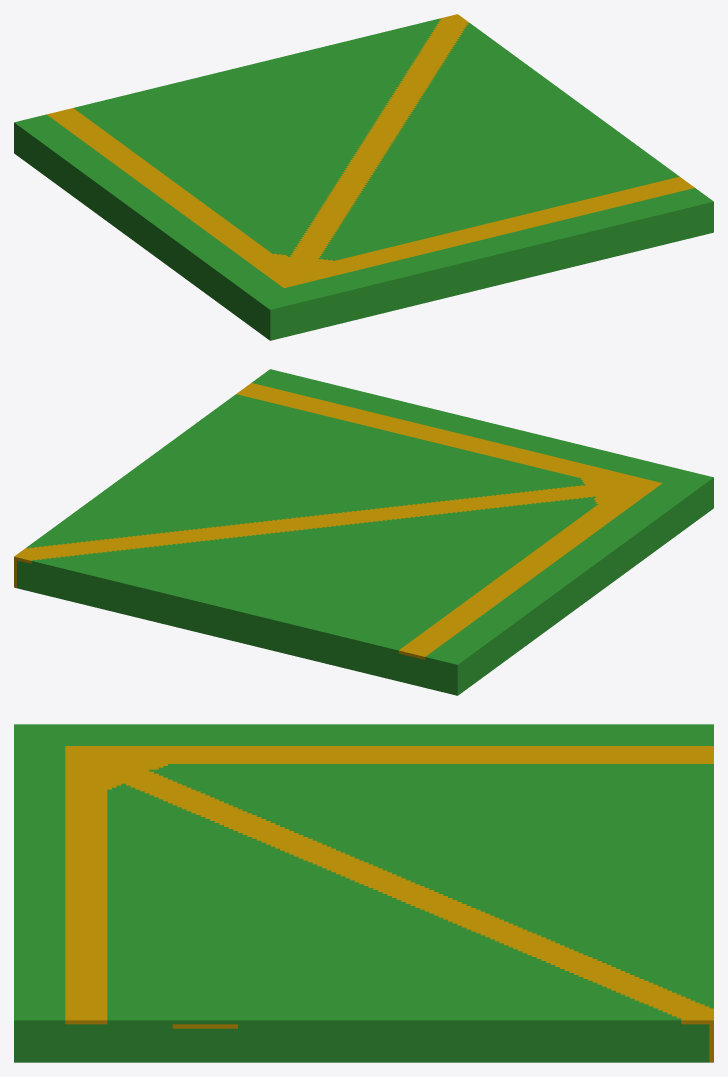
The model's file is map_Second_Stage-12.obj.
The picture shows the model from 3 angles, top to bottom: view 1: azimuth 30°, elevation 25°; view 2: azimuth 150°, elevation 25°; view 3: azimuth 270°, elevation 25°; orthographic projection. The views are drawn at different scales.
Bounding box in the file's own units: 15 × 1 × 15.
Materials: 1 (1 with a texture image).
